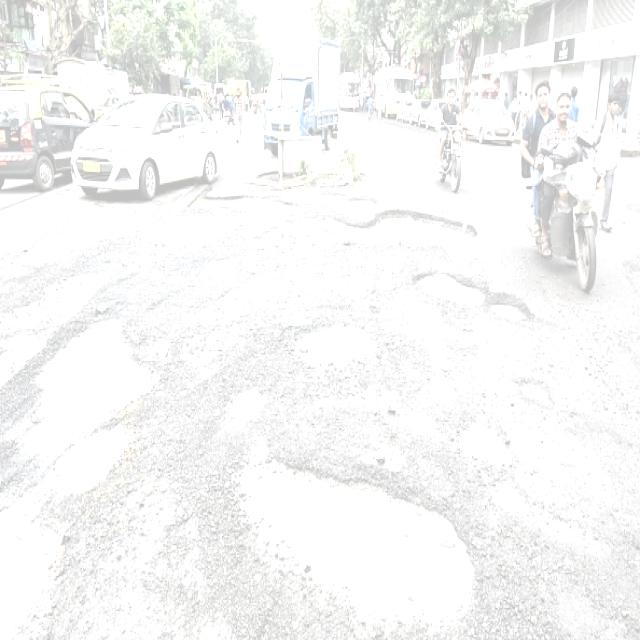Car: (67, 90, 222, 203), (0, 72, 97, 199)
Motorbike: (520, 77, 604, 293)
Pothole: (192, 180, 536, 367), (229, 439, 481, 640), (20, 310, 157, 503)
